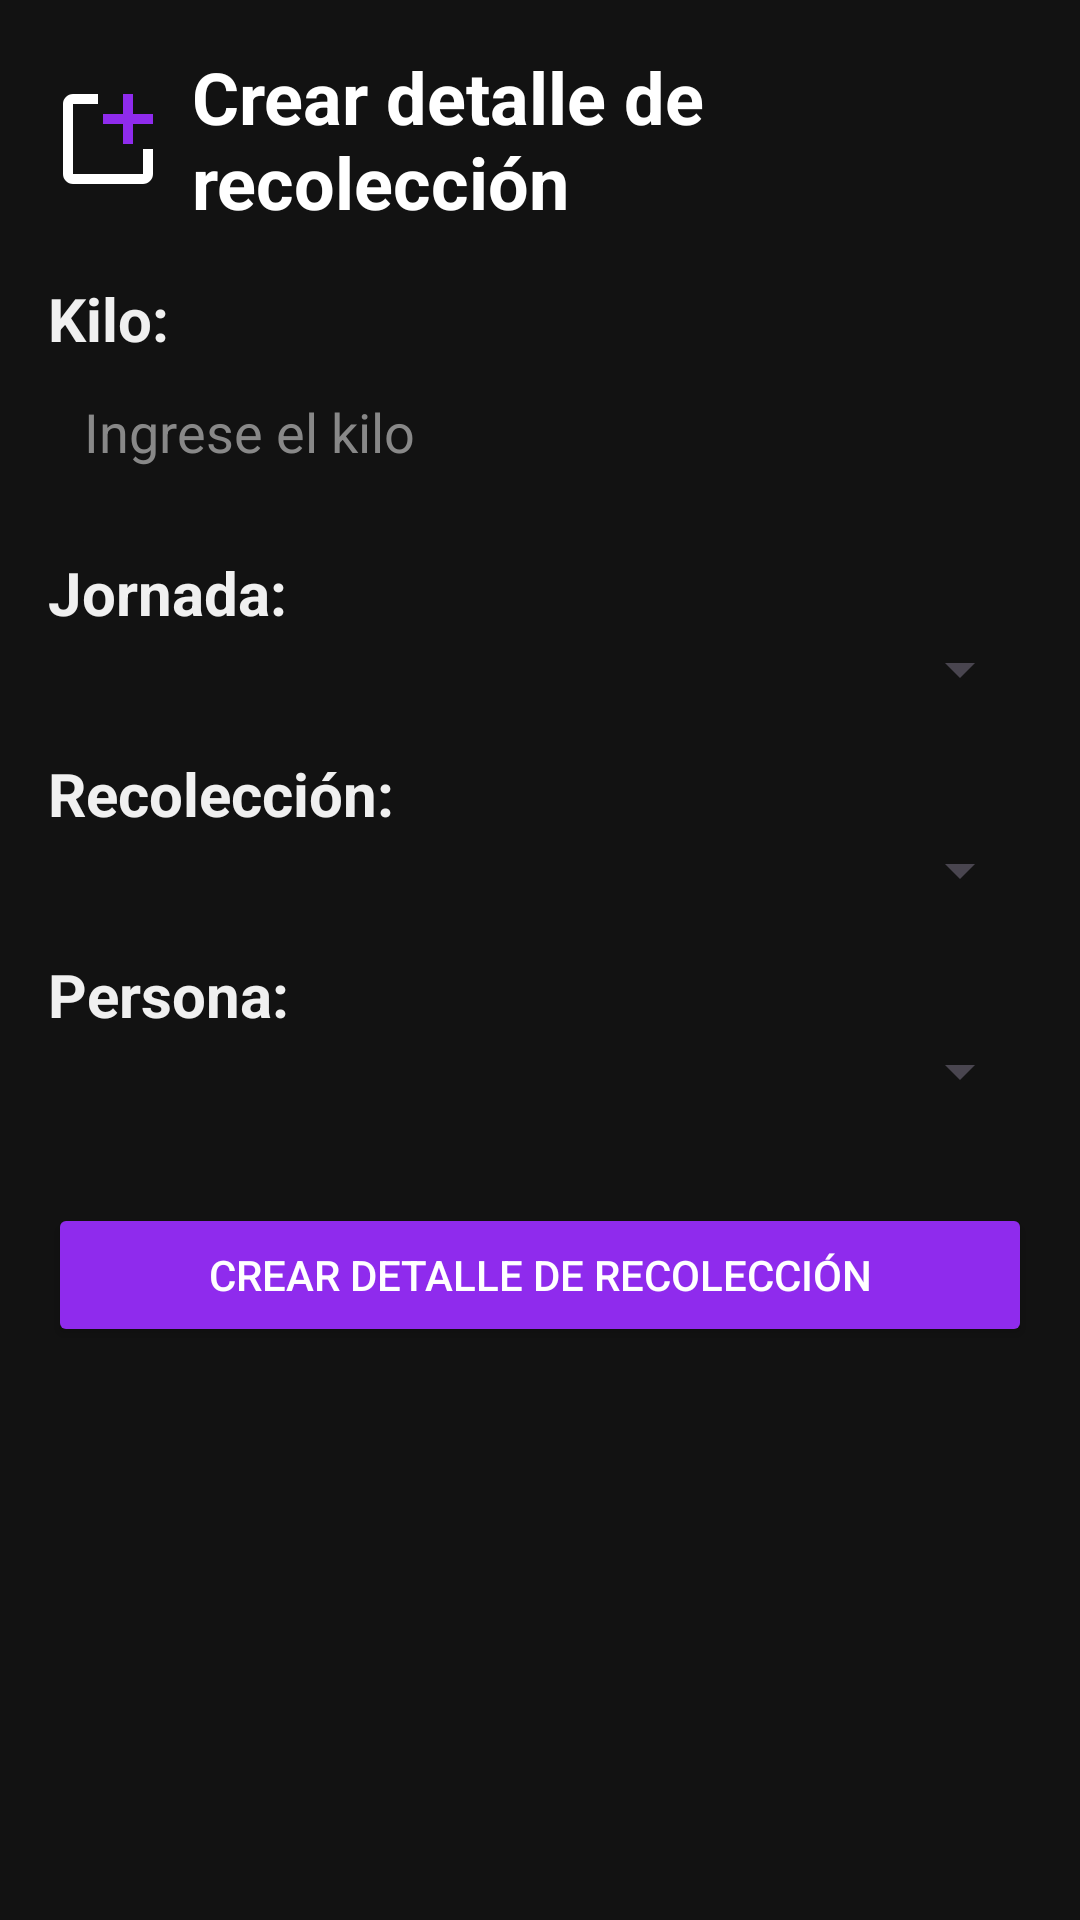

Where icons sit on this 1080px×1920px app screen, as (x1, y1, x2, y2):
Icono de Colección Detalle: (63, 94, 153, 184)
